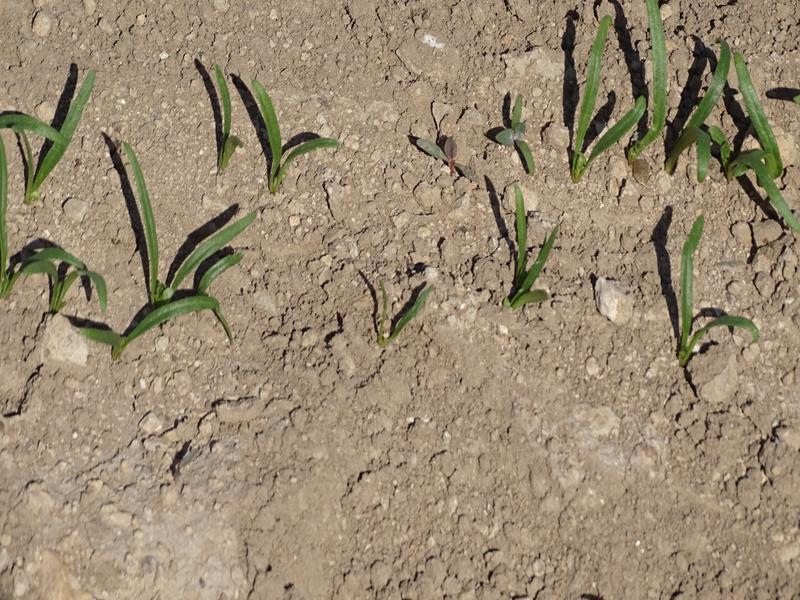Espinaca: (22, 92, 244, 356), (570, 6, 800, 213), (667, 222, 760, 358), (248, 76, 341, 196), (497, 189, 567, 307), (503, 94, 550, 181)
